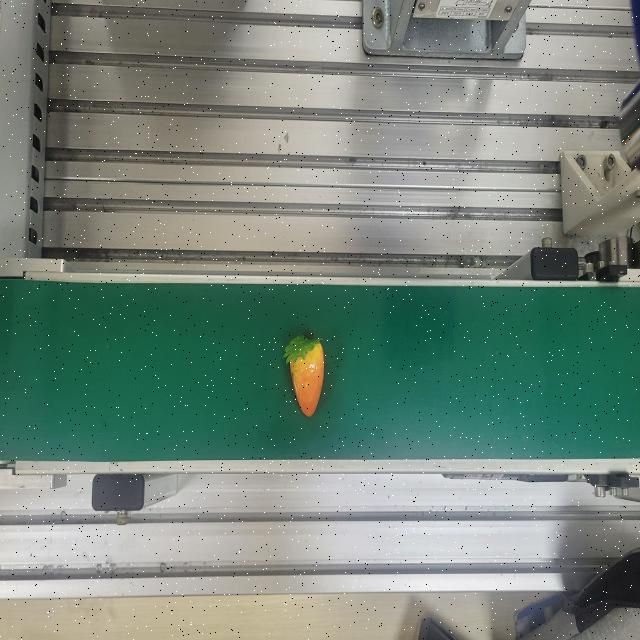Small Unripe Strawberry: (282, 330, 326, 418)
conveyor: (0, 264, 640, 467)
